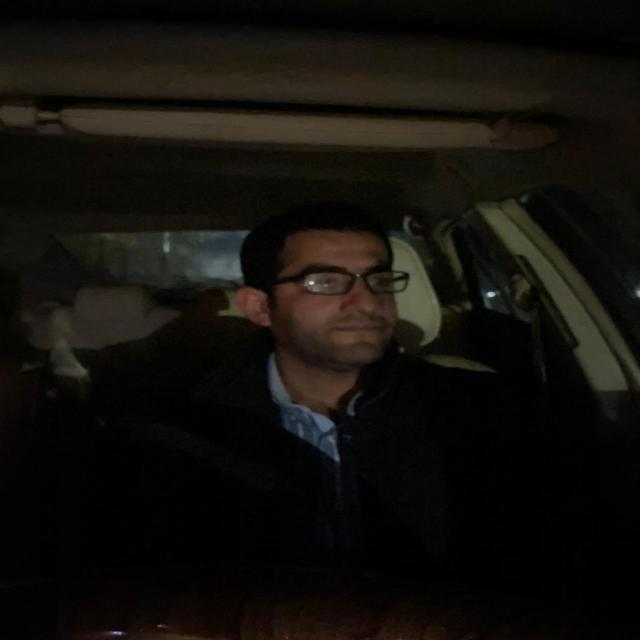person: (232, 213, 406, 371)
